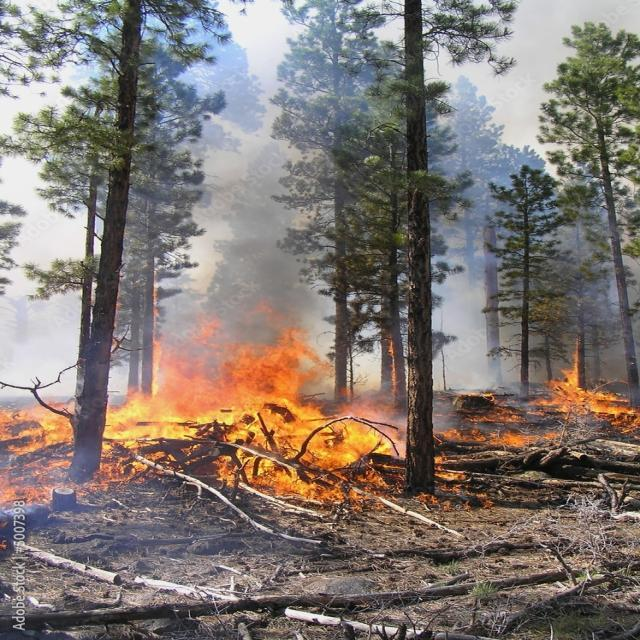Fire: (2, 296, 640, 512)
